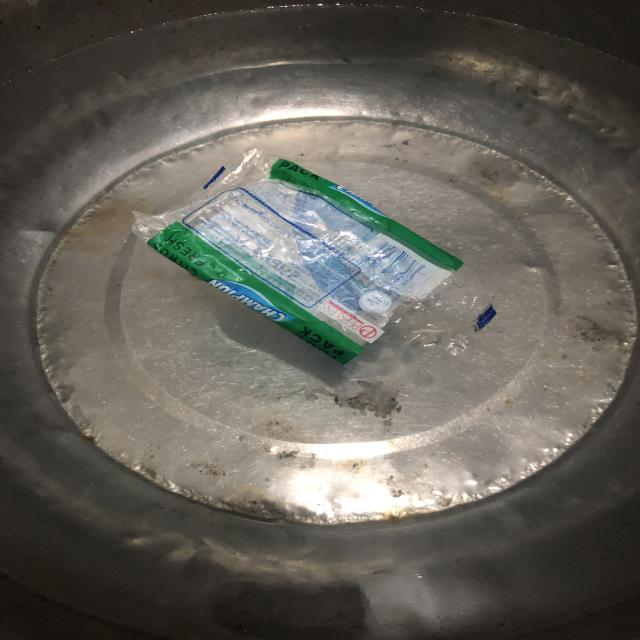Plastic Wrapper: (102, 148, 523, 405)
